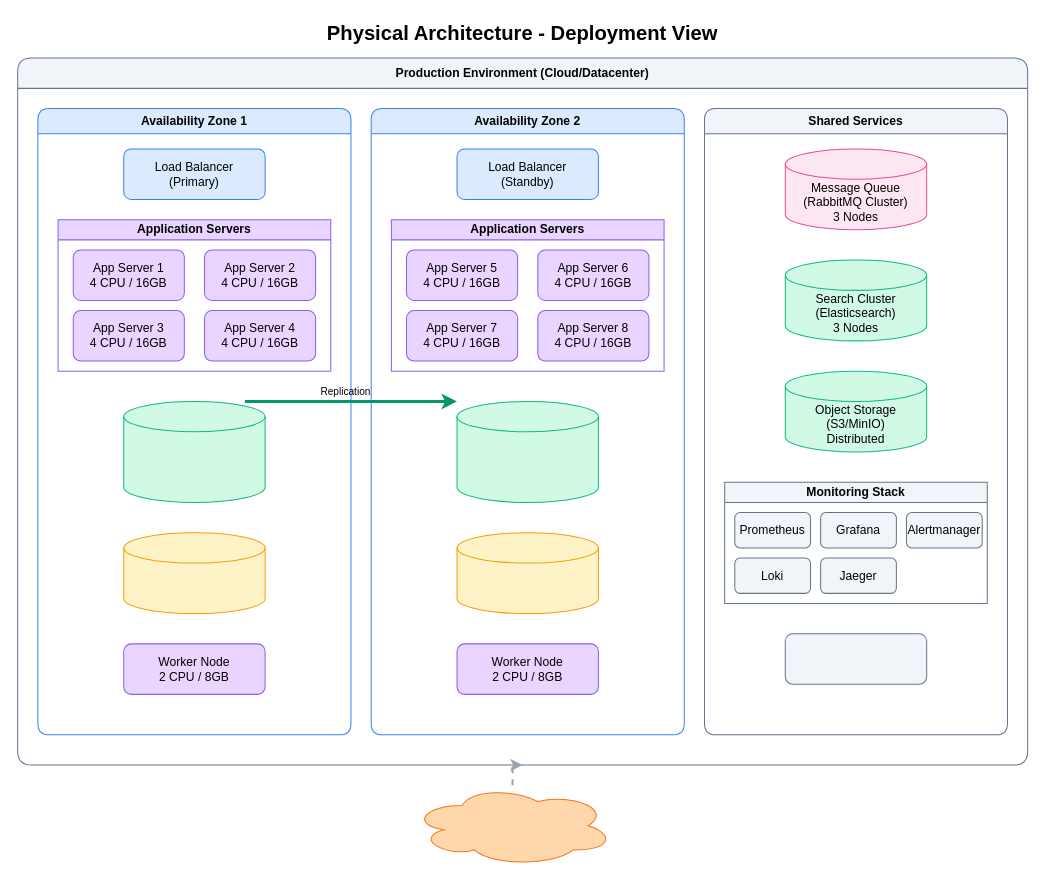
This 1045x884 diagram has some shape labels left out. The centre of each missing label's shape, as x and y in pixels:
"CI/CD (GitHub Actions)" goes at point (855, 658).
"Database (Primary) PostgreSQL 8 CPU / 32GB / 500GB SSD" goes at point (194, 451).
"Database (Replica) PostgreSQL 8 CPU / 32GB / 500GB SSD" goes at point (527, 451).
"Internet / CDN" goes at point (512, 825).
"Redis Cache (Primary) 4 CPU / 16GB" goes at point (194, 573).
"Redis Cache (Replica) 4 CPU / 16GB" goes at point (527, 573).
